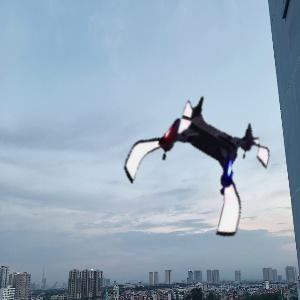drone: (124, 90, 271, 237)
